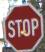Stop sign: (0, 0, 44, 51)
